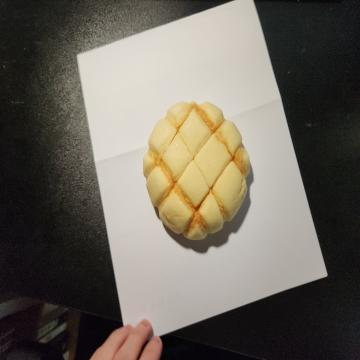melon_bread: (142, 100, 254, 247)
